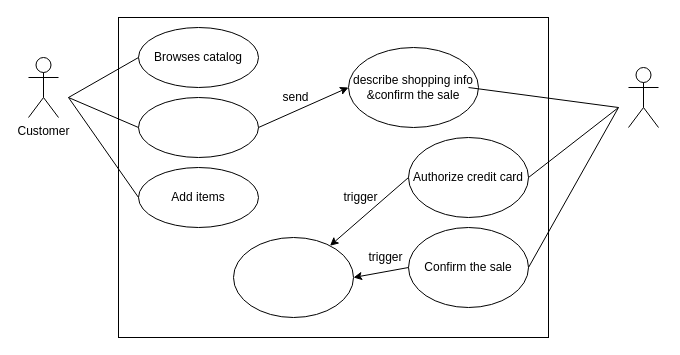
This 680x355 diagram has some shape labels left out. Each missing label, with the centre of its shape:
"Buy items" goes at [198,127].
"Follow-up email" goes at [293,277].
"System" goes at [643,97].
